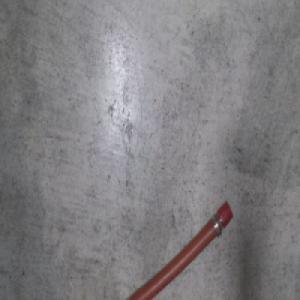Hose: (112, 197, 233, 300)
